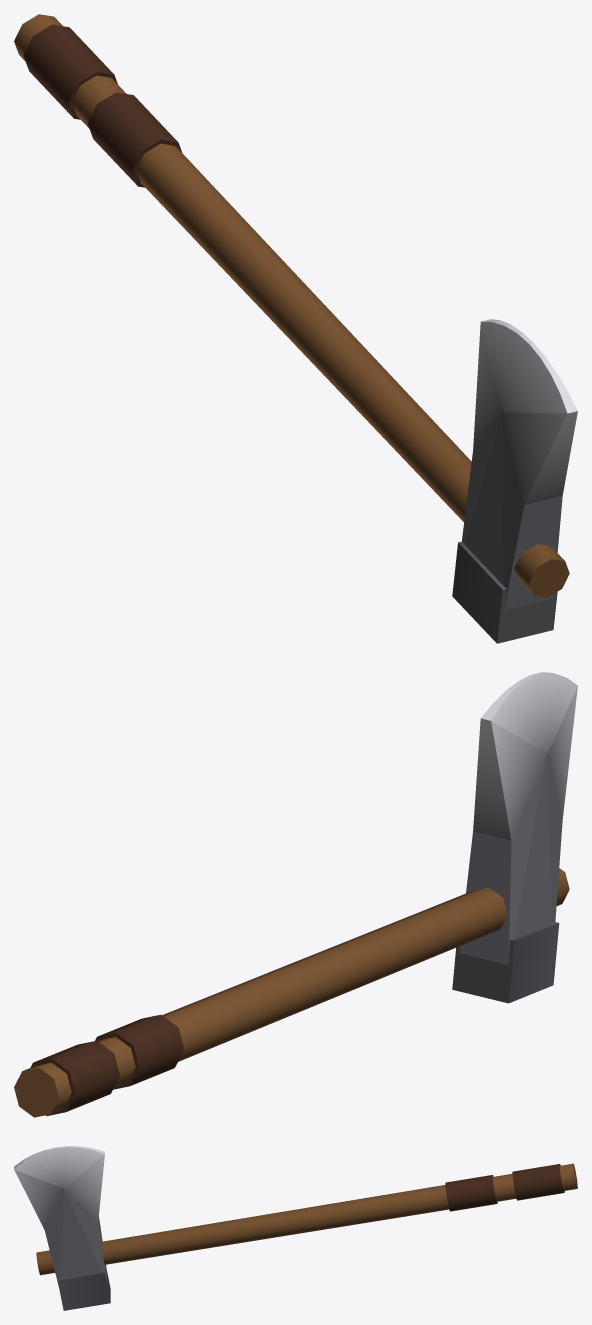
The model's file is axe.glb.
3 views of the same model, one above another, from view 1: azimuth 30°, elevation 25°; view 2: azimuth 150°, elevation 25°; view 3: azimuth 270°, elevation 25° (orthographic). The views are drawn at different scales.
Visible parts, largest first — view 1: axe; view 2: axe; view 3: axe.
Boxes of the visible parts, x1,y1,x2,y2 form: axe: [14, 14, 577, 643]; axe: [14, 672, 577, 1117]; axe: [14, 1146, 577, 1310].
Size of the model in its own units: 0.05 by 0.2541 by 0.8267.
